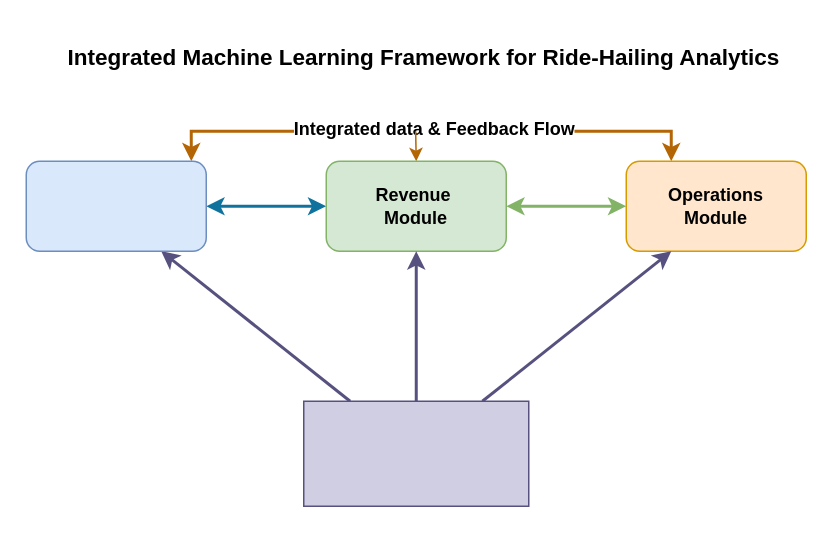
The diagram is 833 pixels wide and 533 high, and some of its shapes have lost their labels. The centre of each missing label's shape, as x and y in pixels:
"External Factors: Traffic -> Weather -> Fairness -> Policy Constraints" goes at point (415, 453).
"Forcasting Module" goes at point (115, 205).
